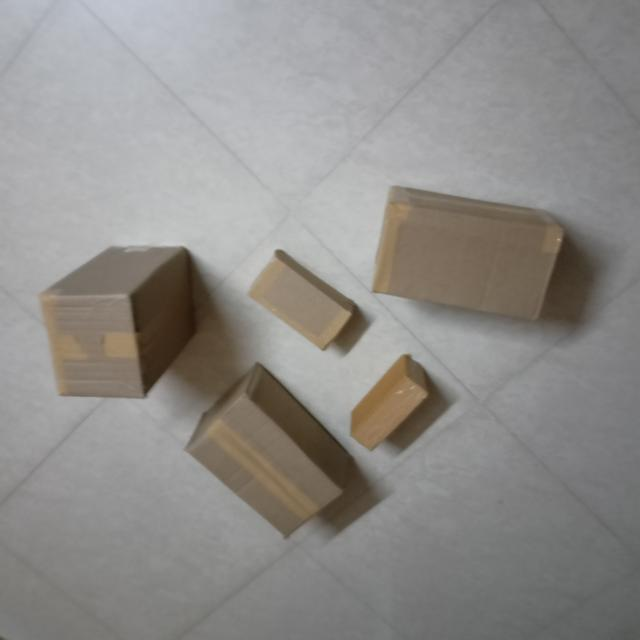box: (186, 398, 349, 544), (372, 208, 568, 328), (43, 296, 146, 399), (247, 258, 351, 350), (353, 378, 434, 452)
